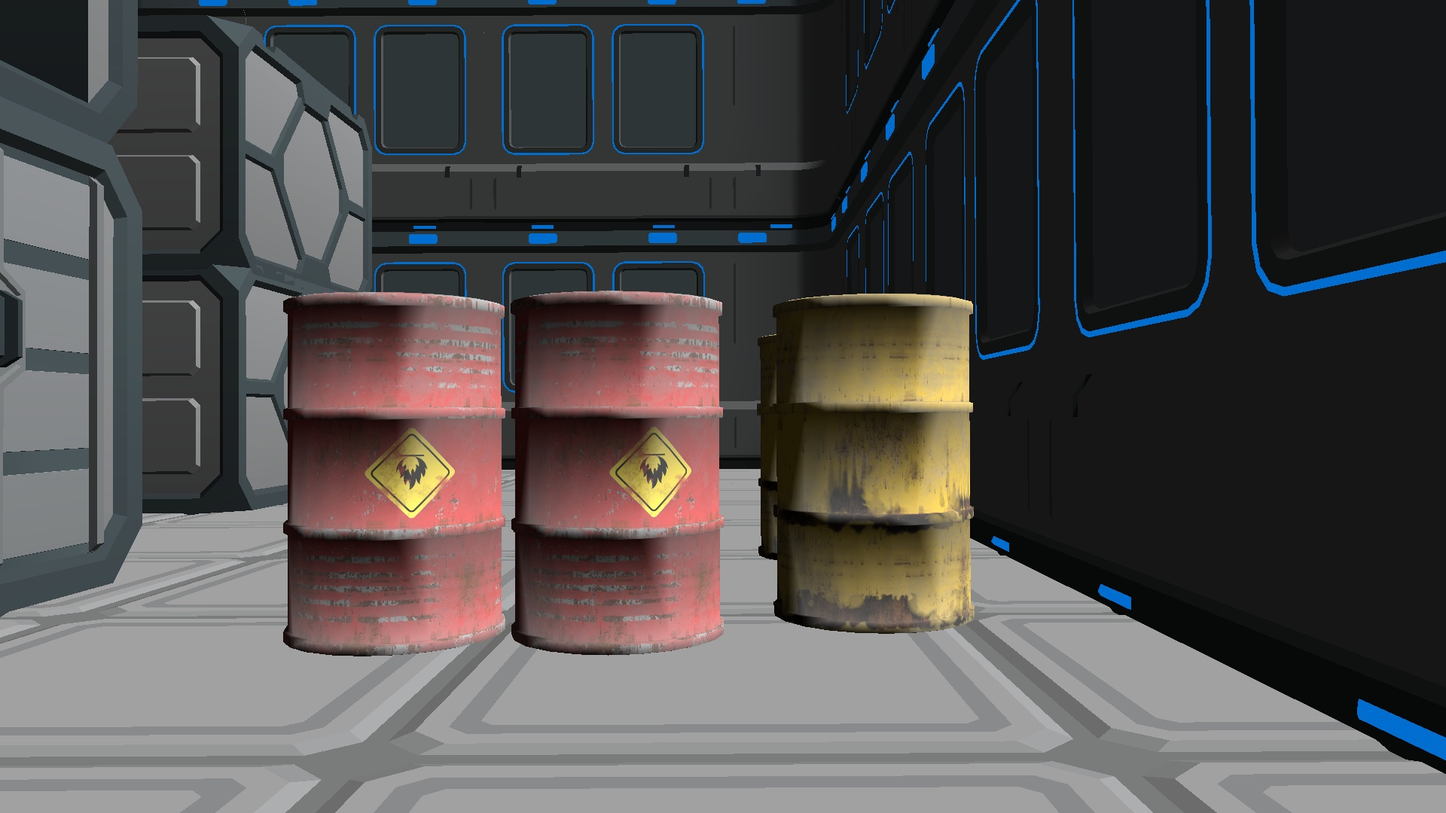toxic barrel: (281, 290, 506, 656), (511, 291, 723, 655), (774, 294, 975, 634)
